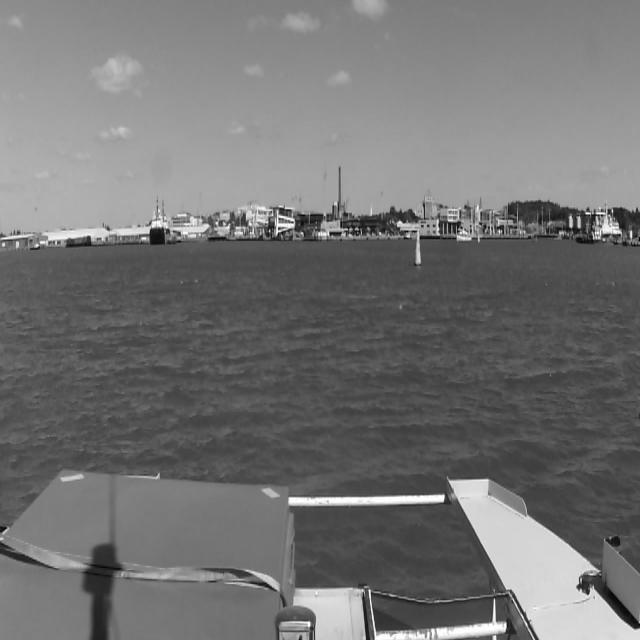buoy: (414, 228, 422, 268), (477, 232, 480, 244)
ship: (149, 198, 167, 254), (456, 228, 472, 244)
